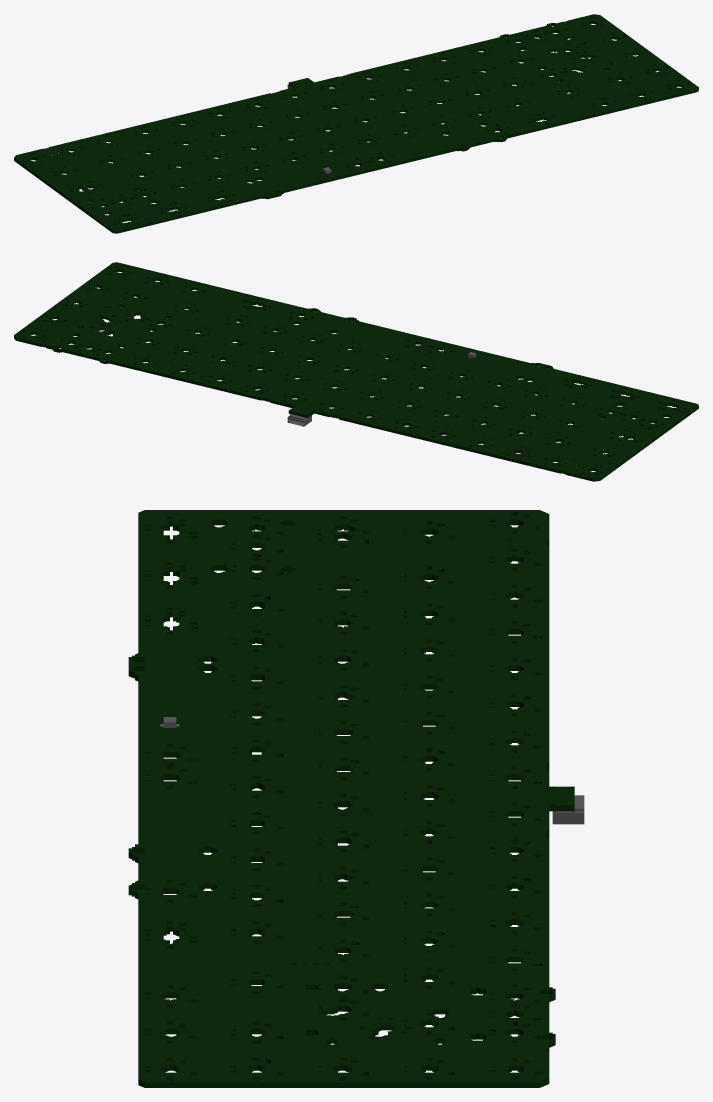
The model's file is hannah65.glb.
3 views of the same model, one above another, from view 1: azimuth 30°, elevation 25°; view 2: azimuth 150°, elevation 25°; view 3: azimuth 270°, elevation 25° (orthographic). The views are drawn at different scales.
Visible parts, largest first — view 1: hannah65; view 2: hannah65; view 3: hannah65.
Boxes of the visible parts, bbox=[...] form: hannah65: bbox=[14, 14, 698, 233]; hannah65: bbox=[14, 262, 698, 481]; hannah65: bbox=[128, 510, 584, 1087].
Size of the model in its own units: 300 by 7 by 101.
